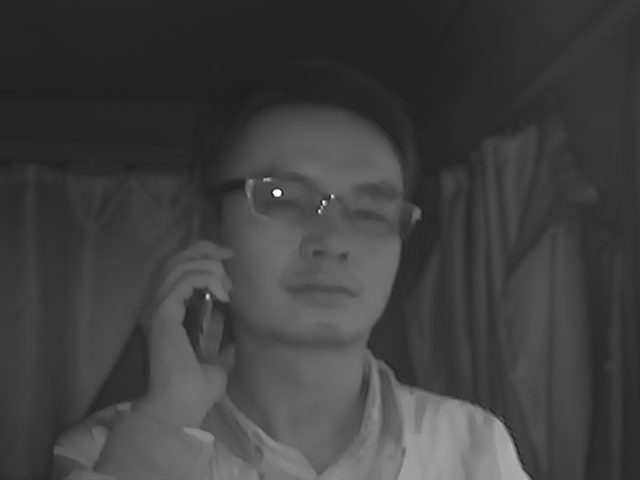hand: (141, 242, 237, 407)
